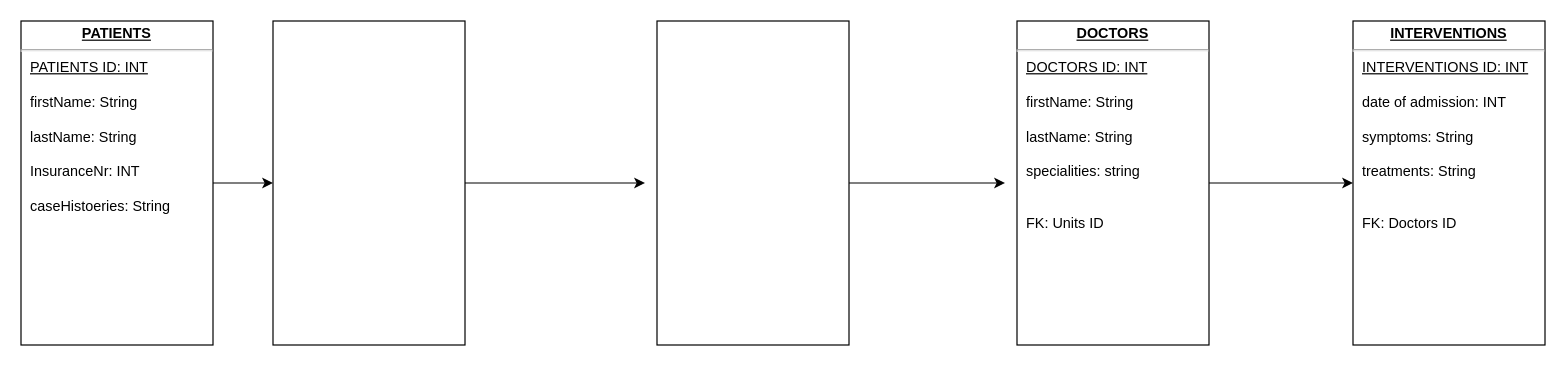
Image size: 1566x366. Some labels were removed from this diagram. The shapes that lost their labels are listed below. From the top down, each one's centre as x and y in pixels, then its label:
point (368, 182): HOSPITAL HOSPITAL ID: INT name: String FK: PatientID
point (752, 182): UNITS UNITS ID: INT name: String floors: INT FK: Hospital ID
